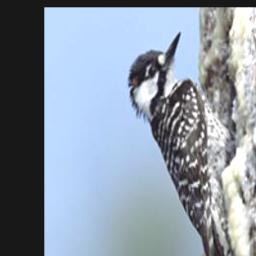Woodpecker: (127, 23, 256, 256)
